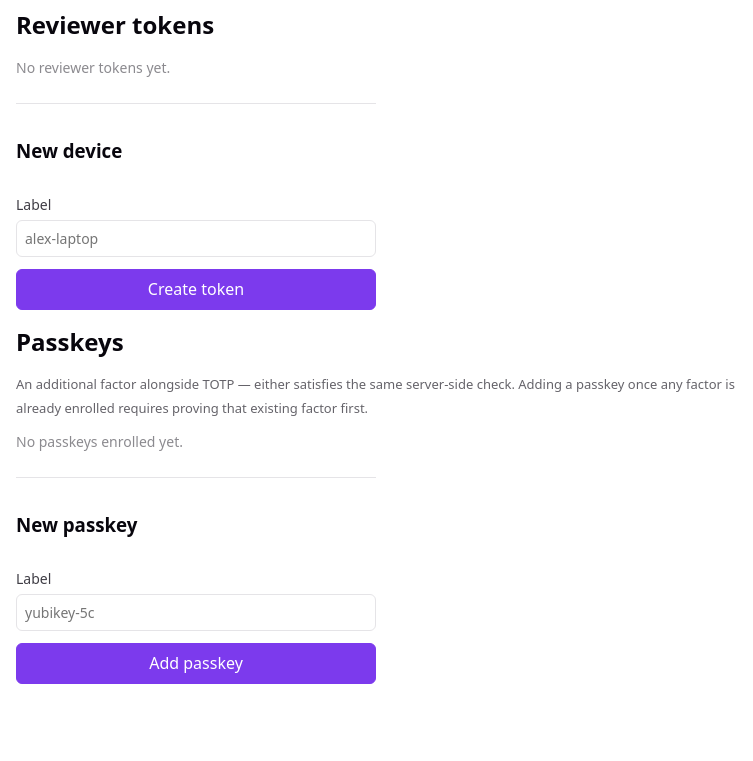
Test case: TokensPage (Passkeys section) — supported browser › surfaces the server's refusal when the factor is rejected
Expected: the list item "No passkeys enrolled yet." is shown, top-left (16, 432), bottom-right (183, 451)
Type "my-key" into the field with placeholder "yubikey-5c" below "New passkey". click: coordinates (196, 612)
box: top-left (16, 594), bottom-right (376, 631)
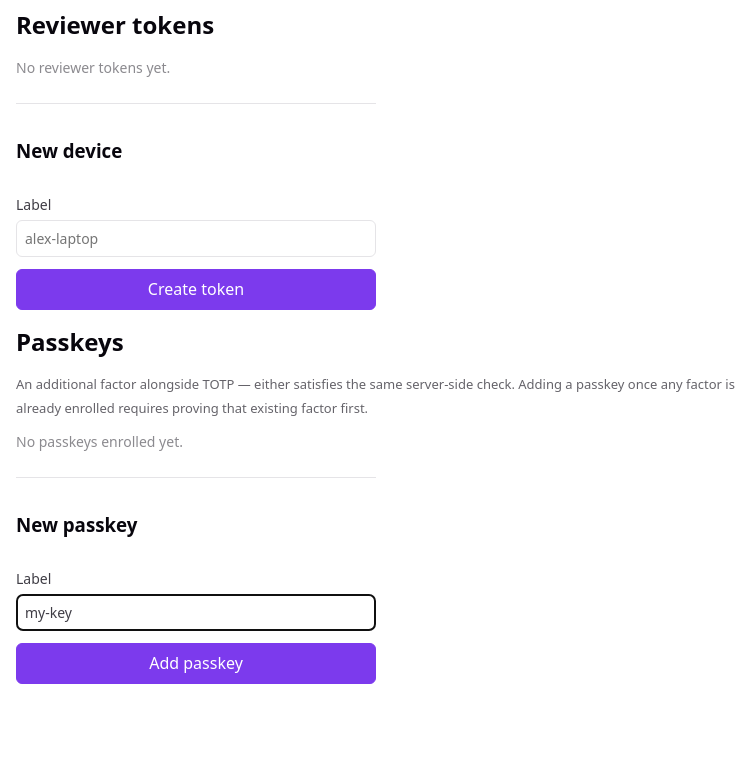
Click the button "Add passkey". click: coordinates (196, 664)
box: top-left (16, 643), bottom-right (376, 684)
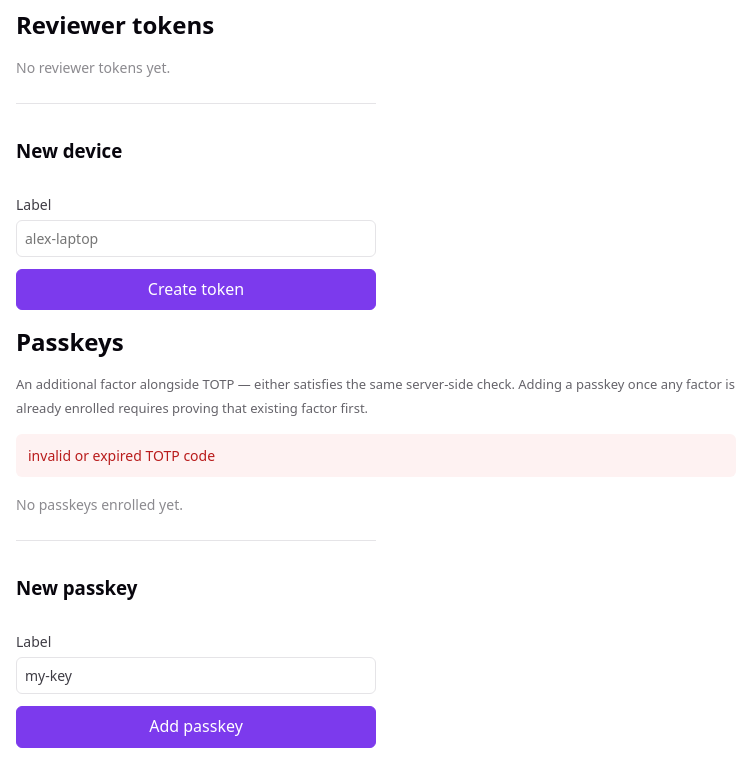
Now the text "invalid or expired TOTP code" is shown, box top-left (16, 434), bottom-right (736, 477)
